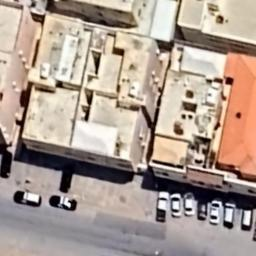SUV: (222, 197, 237, 228), (240, 201, 254, 231)
pickup: (155, 187, 168, 225)
sedan: (12, 190, 44, 210), (48, 194, 79, 212), (183, 188, 196, 218), (208, 195, 220, 227), (169, 190, 182, 219), (196, 194, 208, 221)
